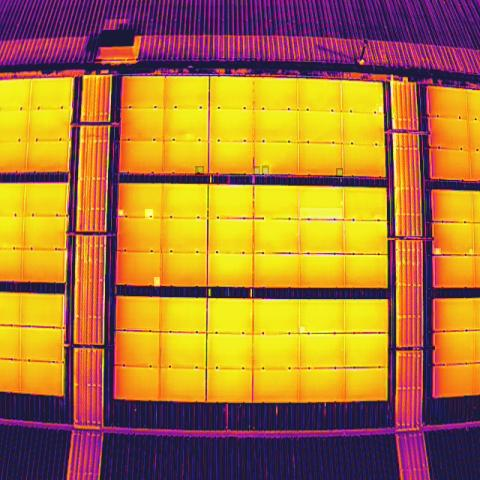fault: (195, 166, 204, 175), (146, 209, 154, 219), (376, 104, 384, 114), (298, 324, 306, 334), (117, 209, 124, 218), (262, 165, 269, 174), (336, 168, 343, 177), (154, 277, 160, 287), (254, 166, 260, 175), (434, 248, 441, 255), (468, 247, 473, 256)
